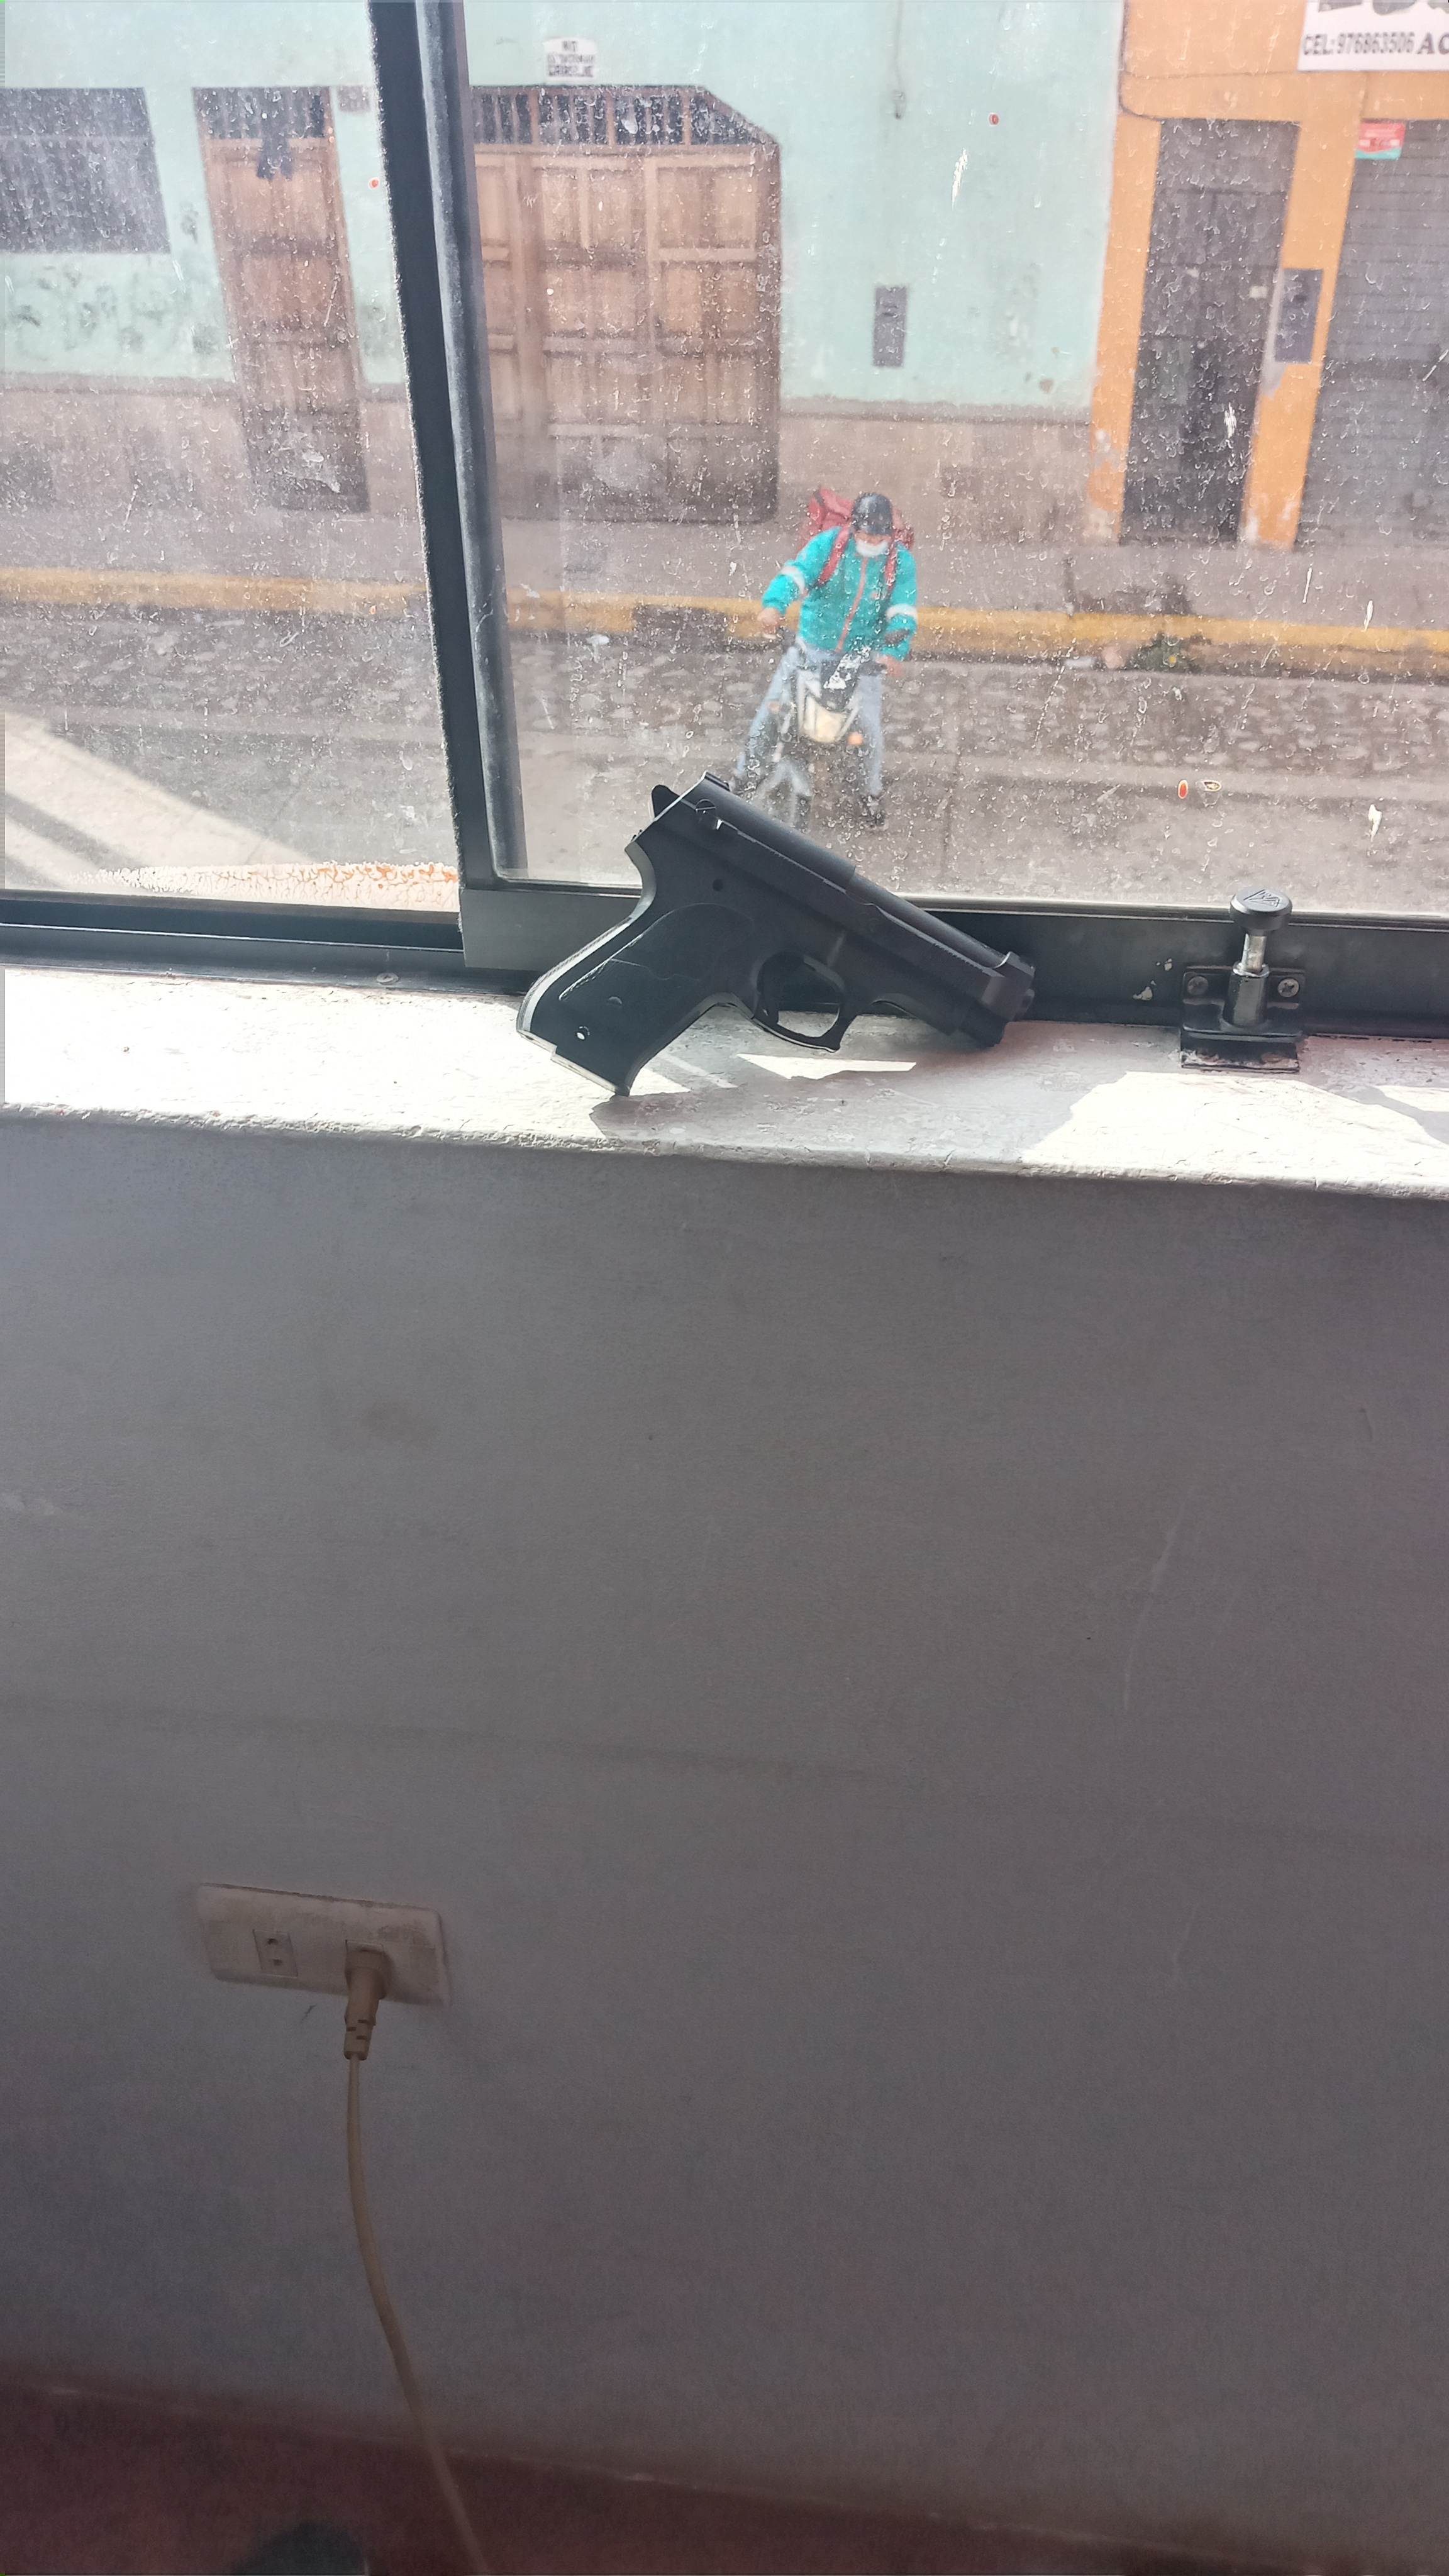Arma: (545, 786, 1005, 1079)
